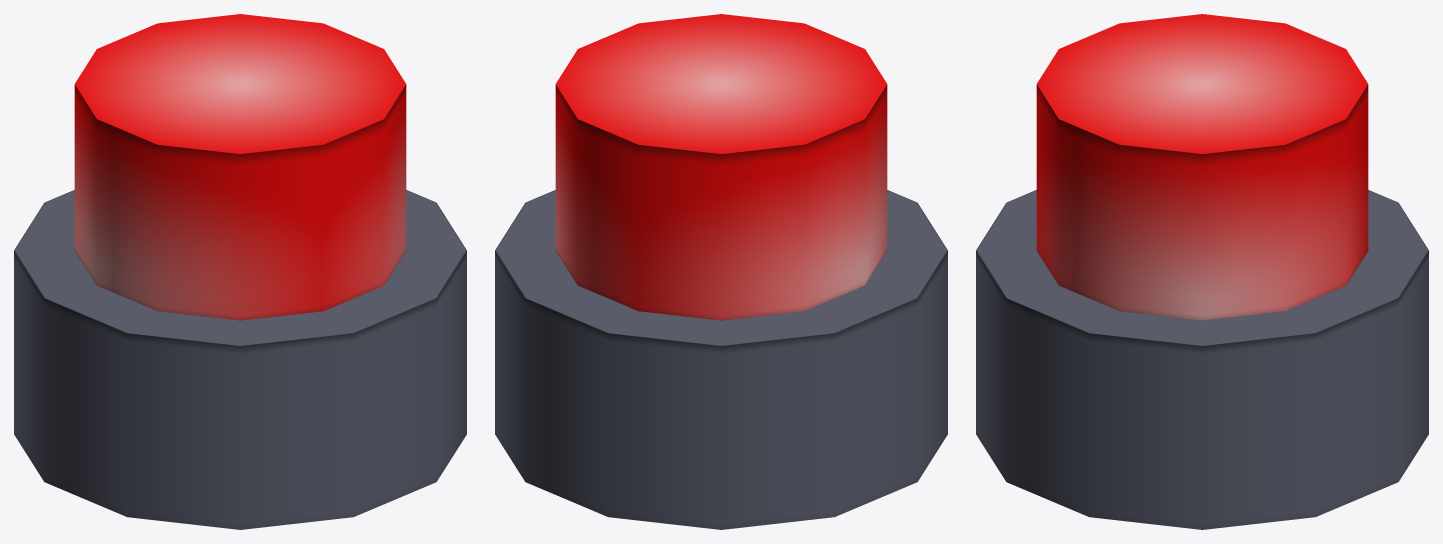
Rendered from Button_Circular_Red.FBX.
3 renders of one model, left to right at view 1: azimuth 30°, elevation 25°; view 2: azimuth 150°, elevation 25°; view 3: azimuth 270°, elevation 25°, orthographic.
Visible parts, largest first — view 1: Button_Circular_Red, Push_Me; view 2: Button_Circular_Red, Push_Me; view 3: Button_Circular_Red, Push_Me.
Boxes of the visible parts, <box> form: Button_Circular_Red: <box>14,190,466,529</box>; Push_Me: <box>74,14,406,320</box>; Button_Circular_Red: <box>495,190,947,529</box>; Push_Me: <box>555,14,887,320</box>; Button_Circular_Red: <box>976,190,1428,529</box>; Push_Me: <box>1036,14,1368,320</box>.
Bounding box in the file's own units: 0.0863 × 0.0736 × 0.0863.
1 material, 1 textured.
